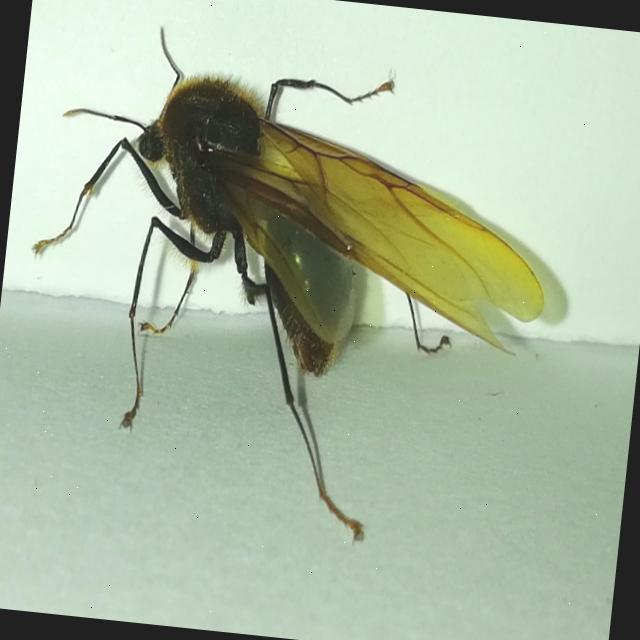Alive-Female-Alate: (4, 14, 568, 566)
